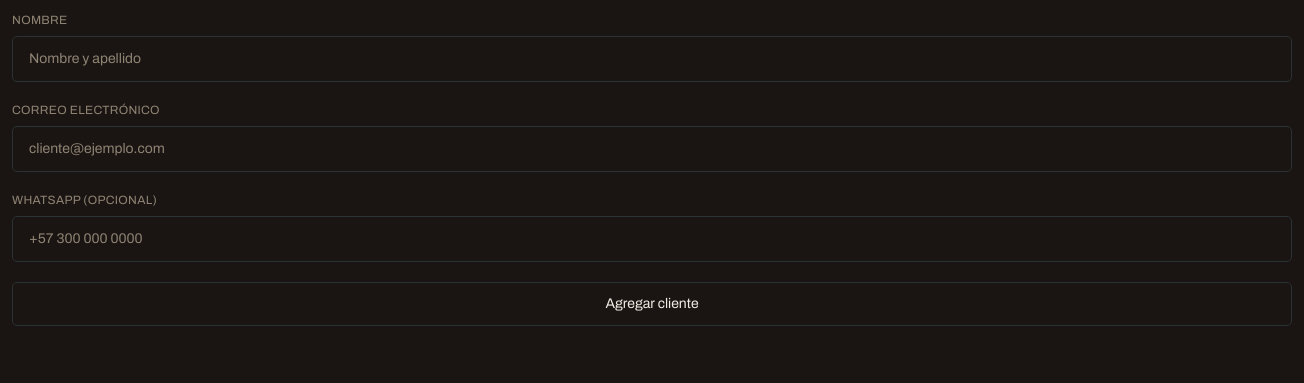
it: ClientForm › keeps the submitted values on screen when the action rejects a duplicate
In the field labelled "Nombre": [652, 59] box [12,36,1292,82], type "Ana Pérez"
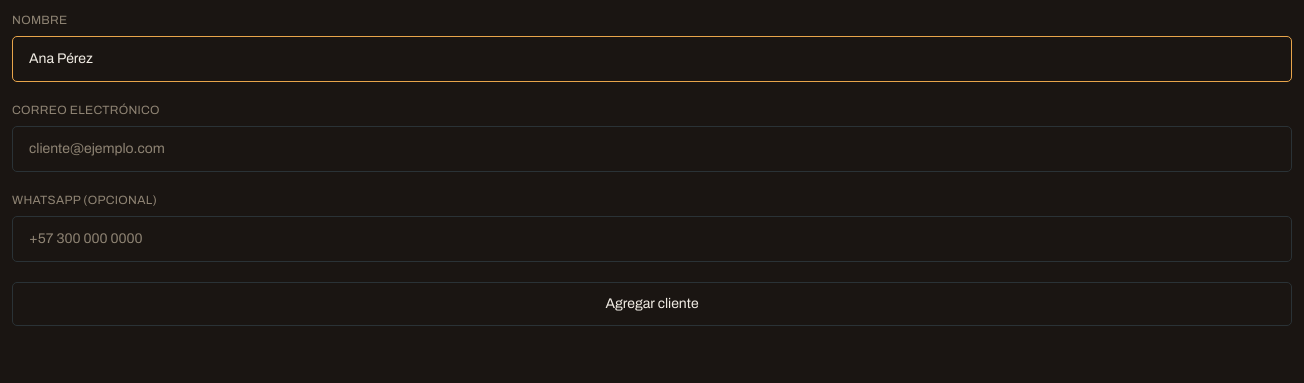
In the field labelled "Correo electrónico": [652, 149] box [12,126,1292,172], type "ana@example.com"
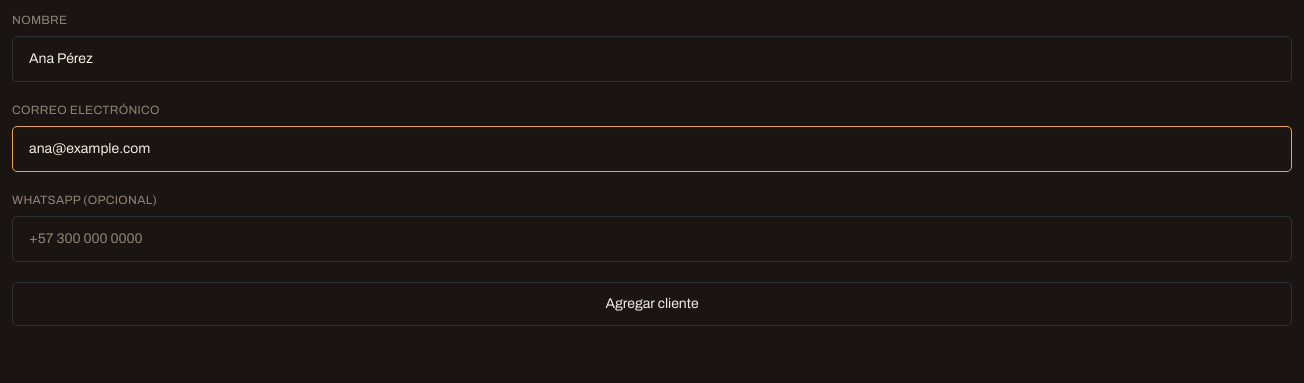
In the field labelled "WhatsApp (opcional)": [652, 239] box [12,216,1292,262], type "+57 300 0000"
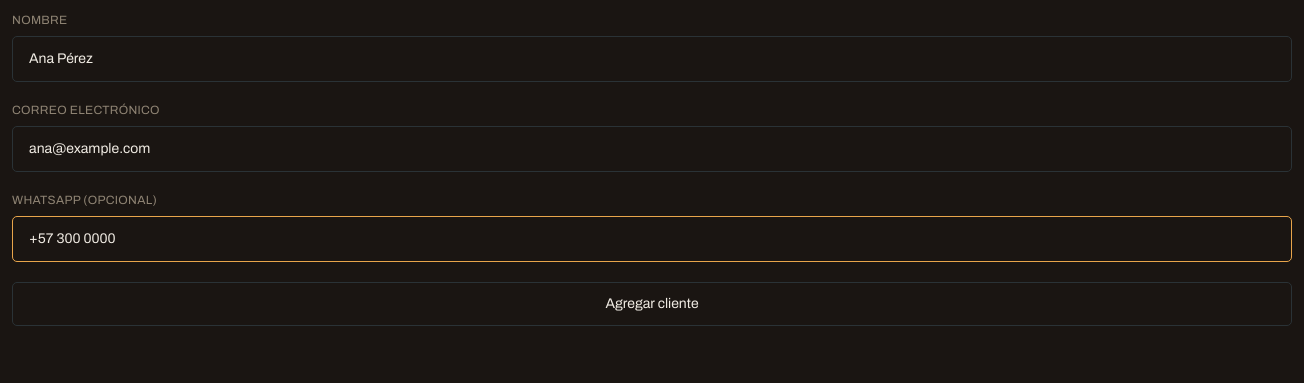
Click the button "Agregar cliente": [652, 304] box [12,282,1292,326]
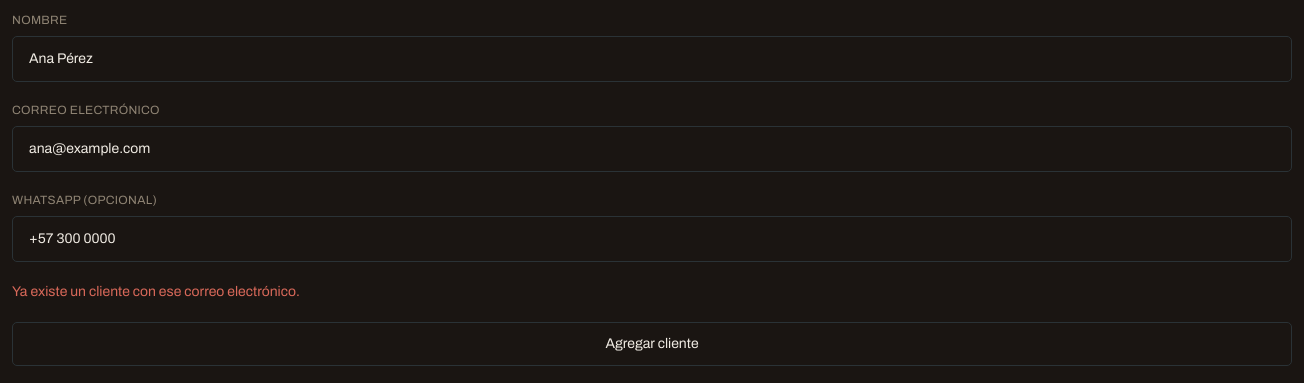
Expected: the message "Ya existe un cliente con ese correo electrónico." is shown, [12,284,300,299]
